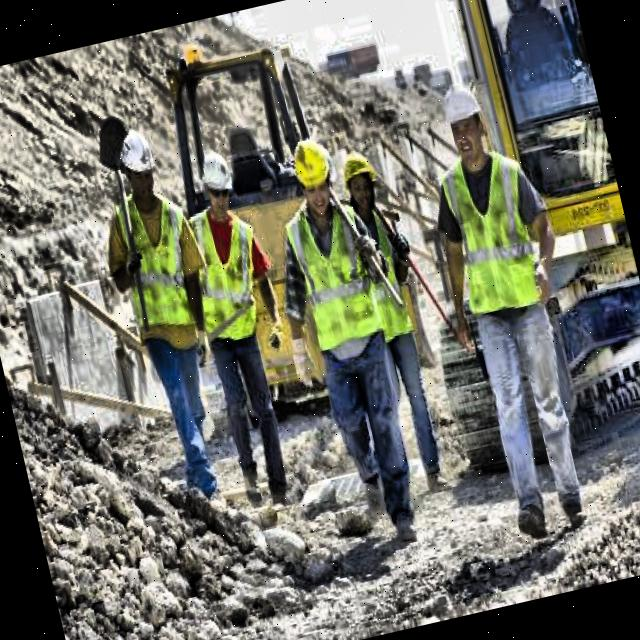helmet: (433, 70, 497, 173), (284, 128, 342, 216), (106, 115, 164, 203), (192, 142, 242, 218), (333, 144, 384, 217)
